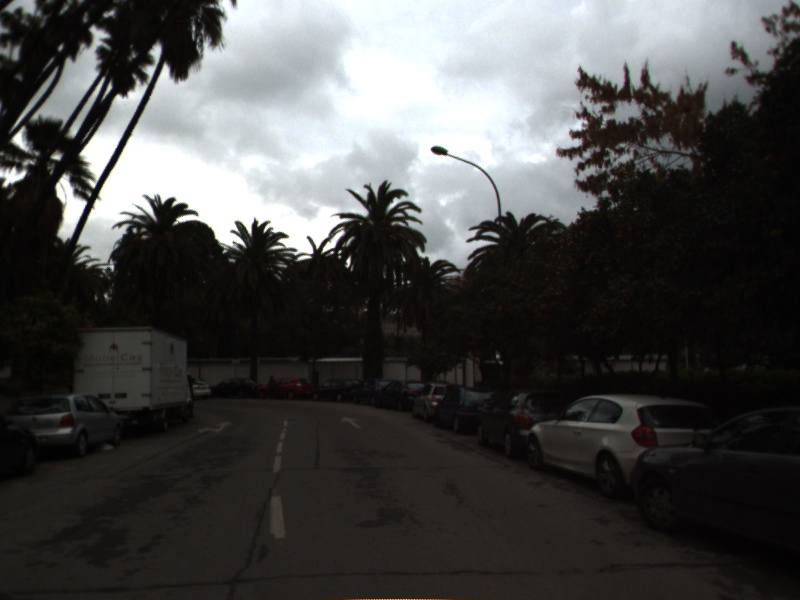STRAIGHT: (338, 415, 364, 430)
STRAIGHT_LEFT: (195, 419, 235, 436)
